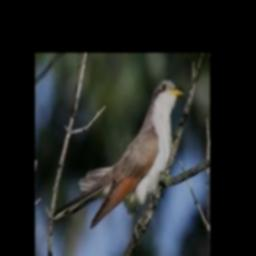Cuckoo: (52, 79, 185, 226)
